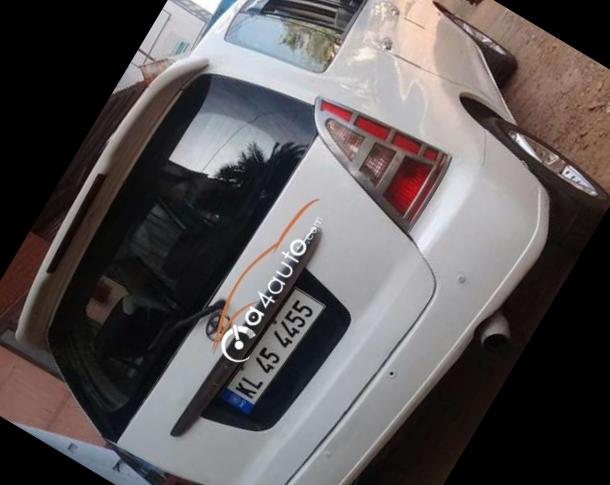plate: (203, 260, 354, 443)
